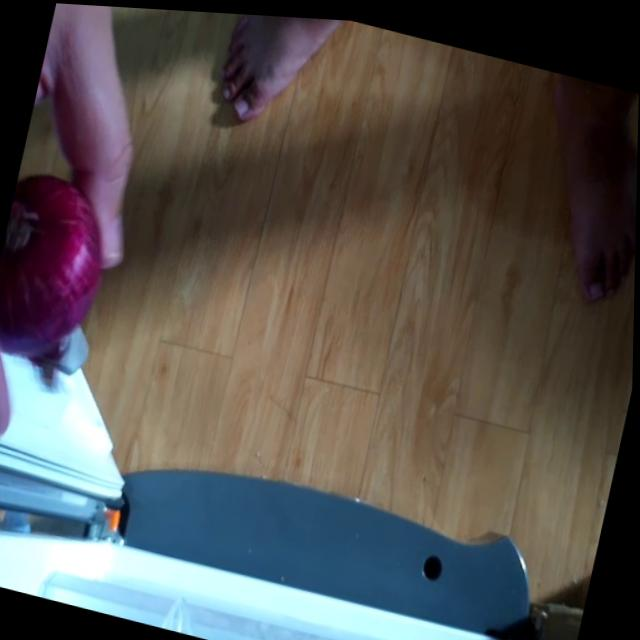onion: (0, 162, 121, 377)
